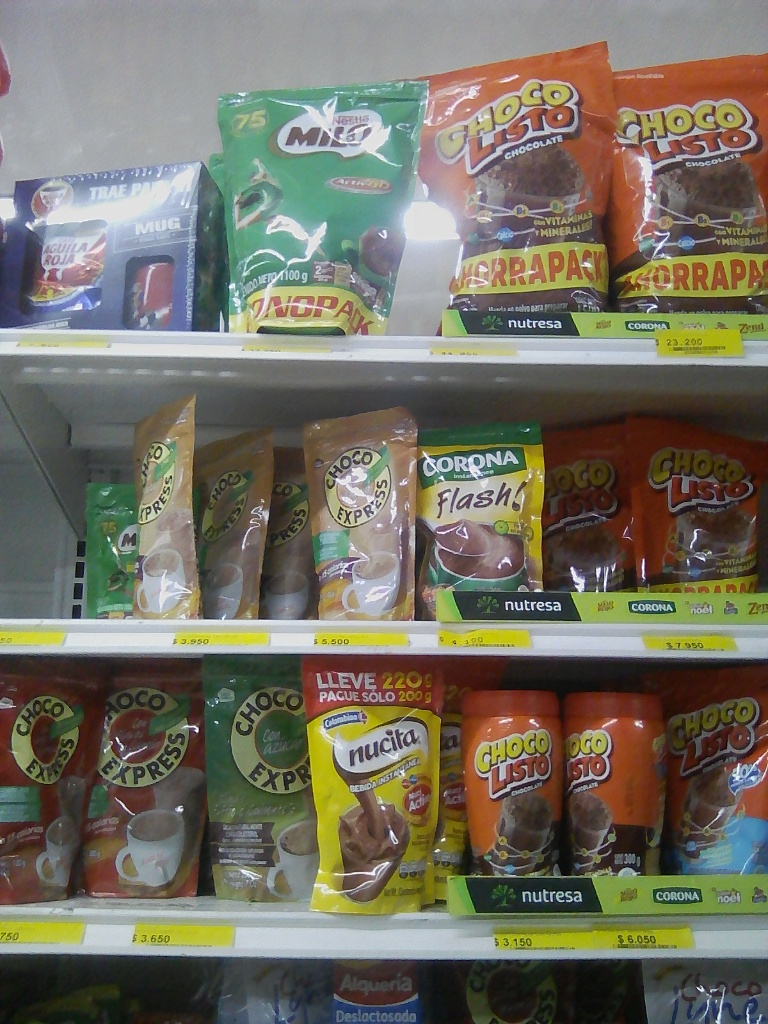COL0170103DYP1,500: (420, 50, 610, 302)
COL0170103DYP36000: (540, 428, 642, 590)
COL0170103TRR30000: (566, 679, 663, 874)
COL0170203DYP10000: (84, 481, 136, 621)
